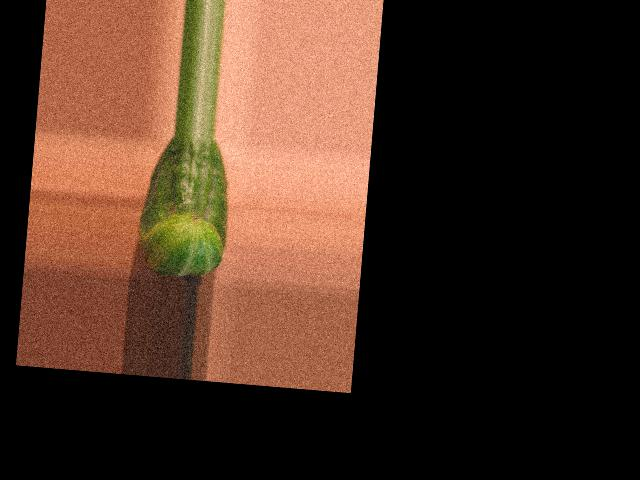cucumber: (135, 133, 234, 279)
